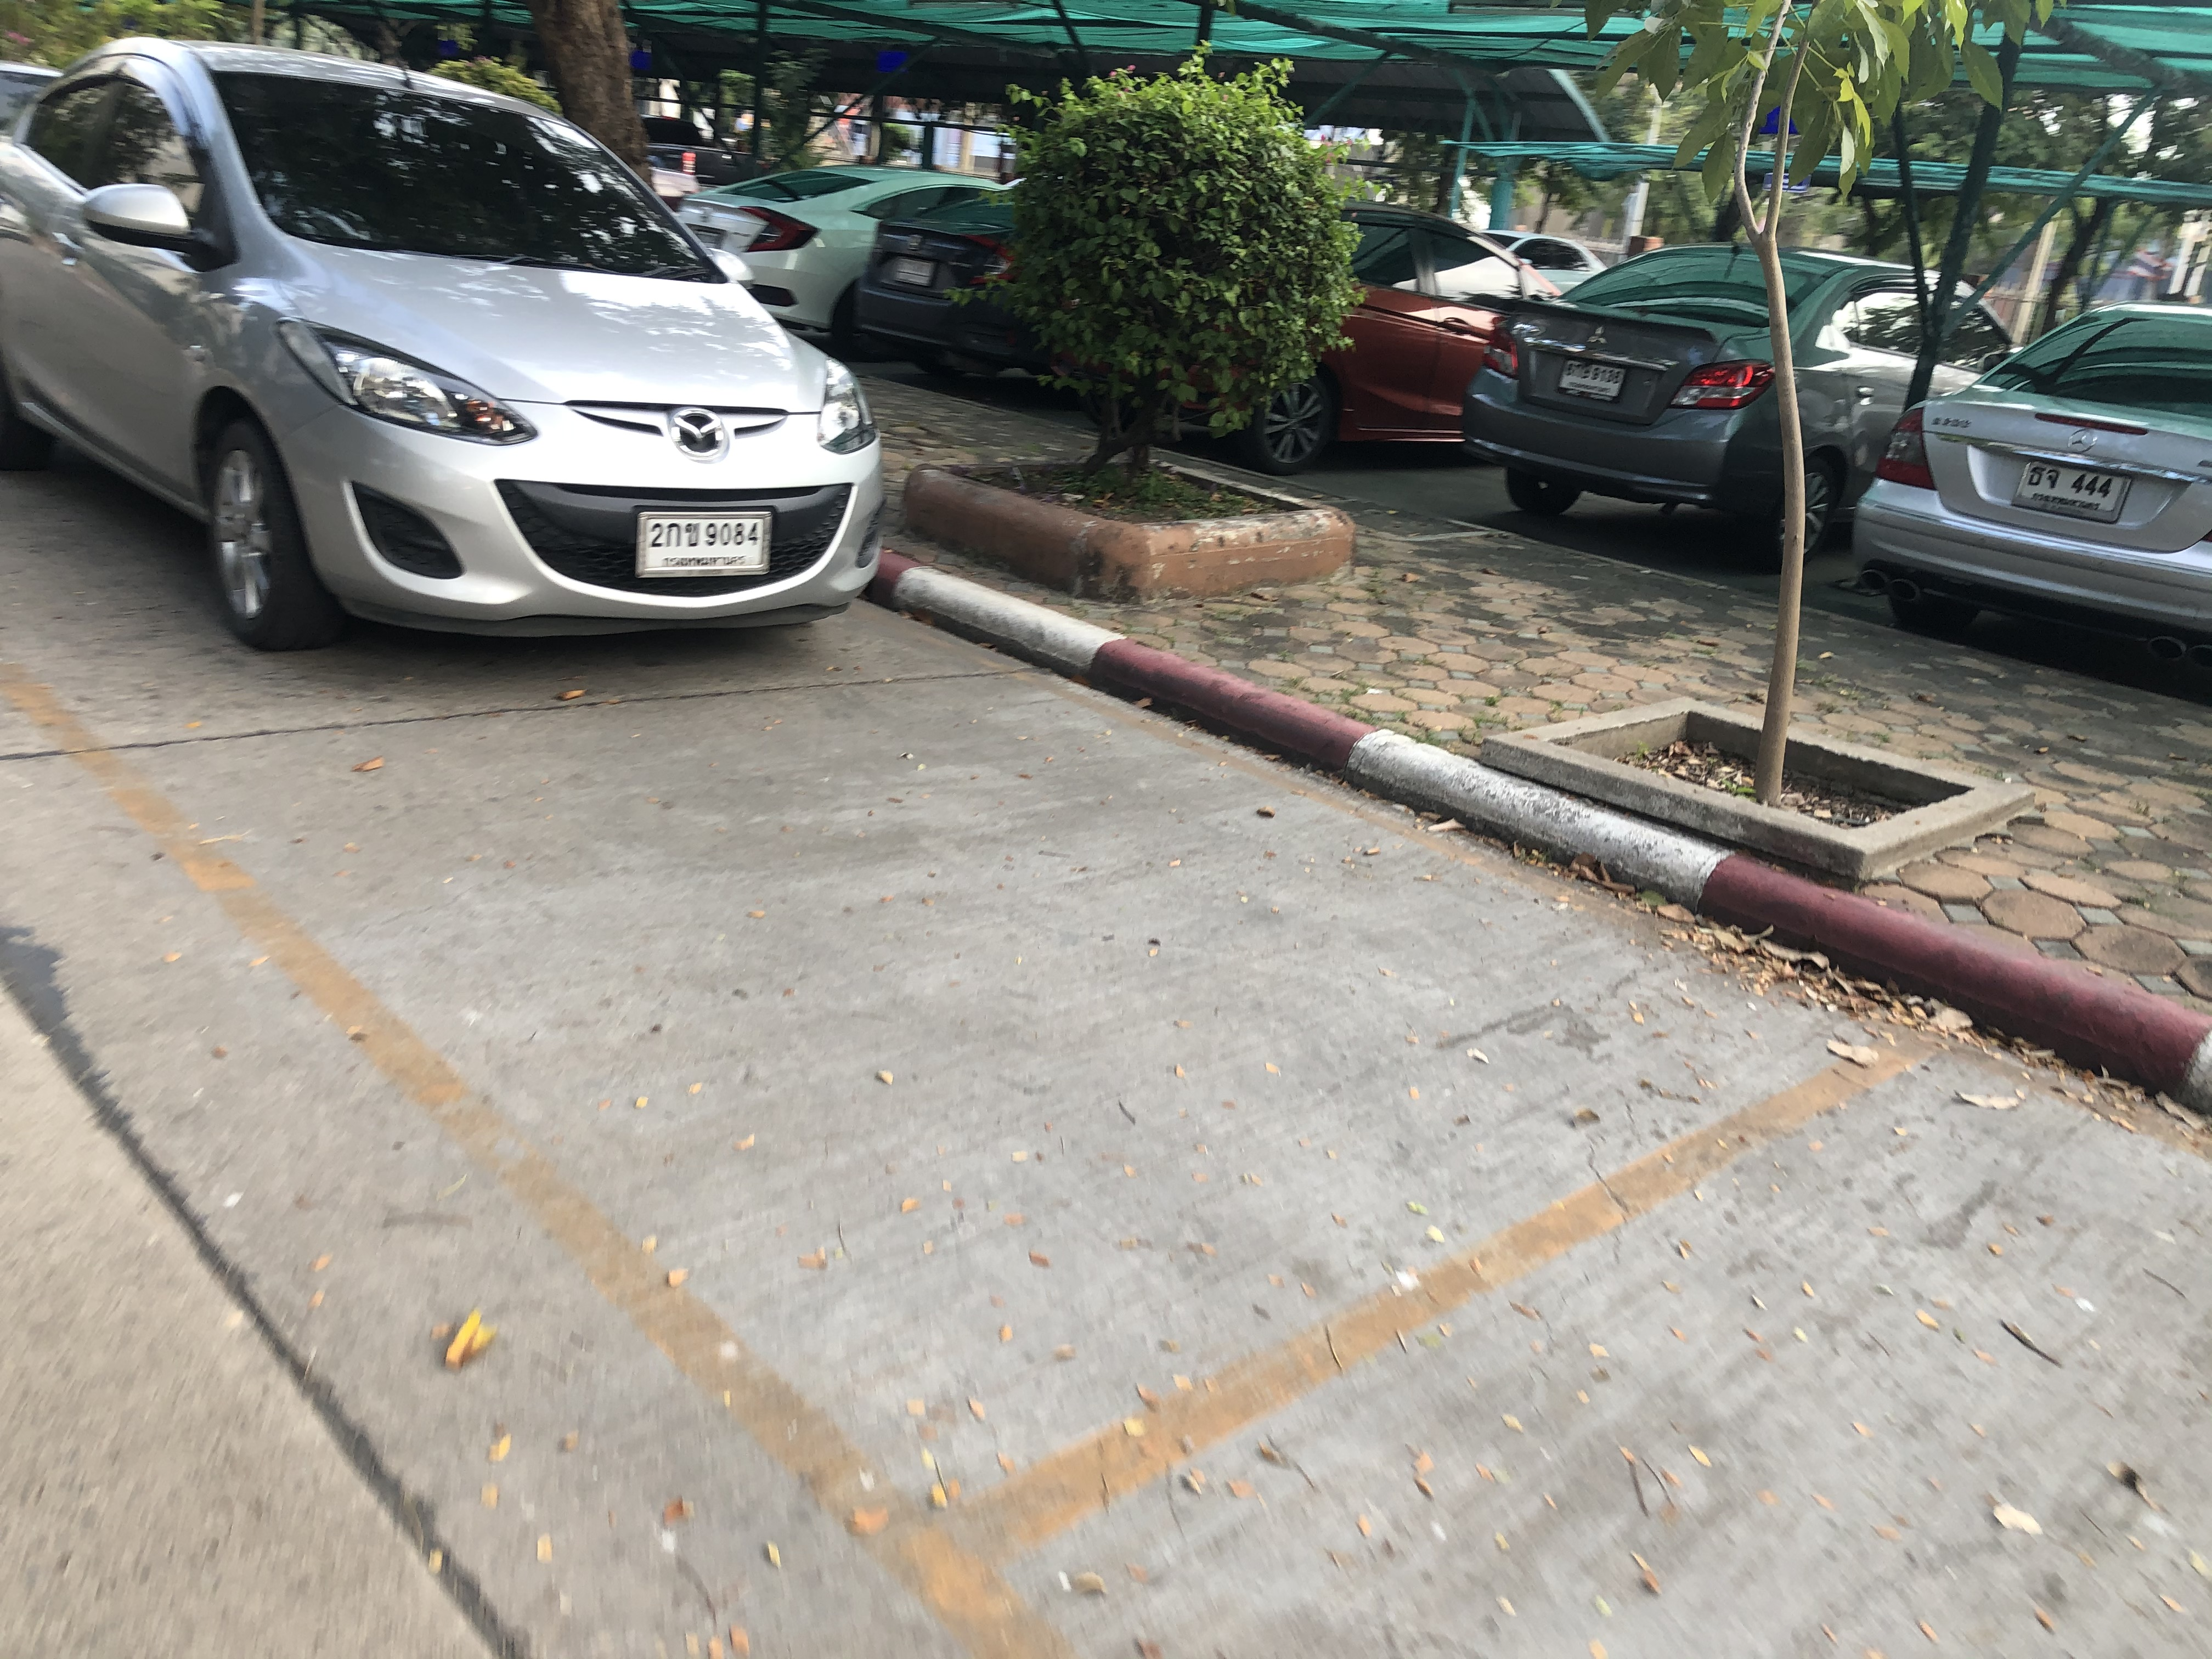in: (646, 518, 761, 568), (1561, 359, 1623, 397)
out: (636, 511, 772, 577), (1555, 354, 1627, 406)
